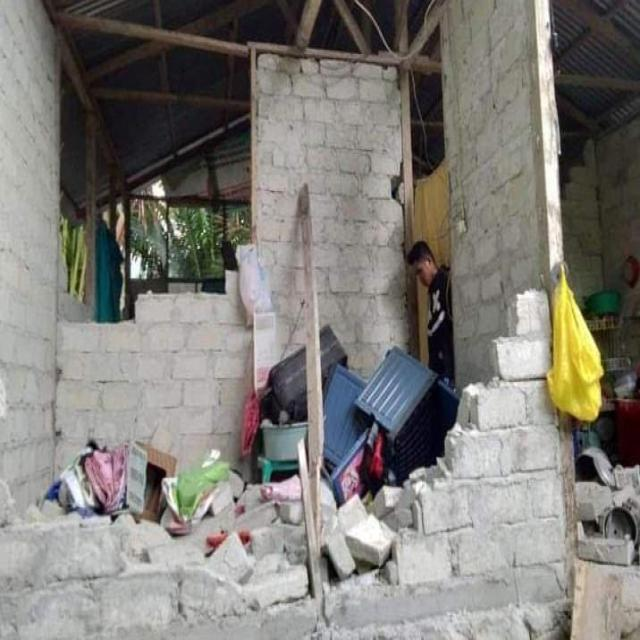damage: (260, 311, 463, 588), (31, 237, 312, 382), (31, 427, 270, 569), (553, 438, 640, 601)
